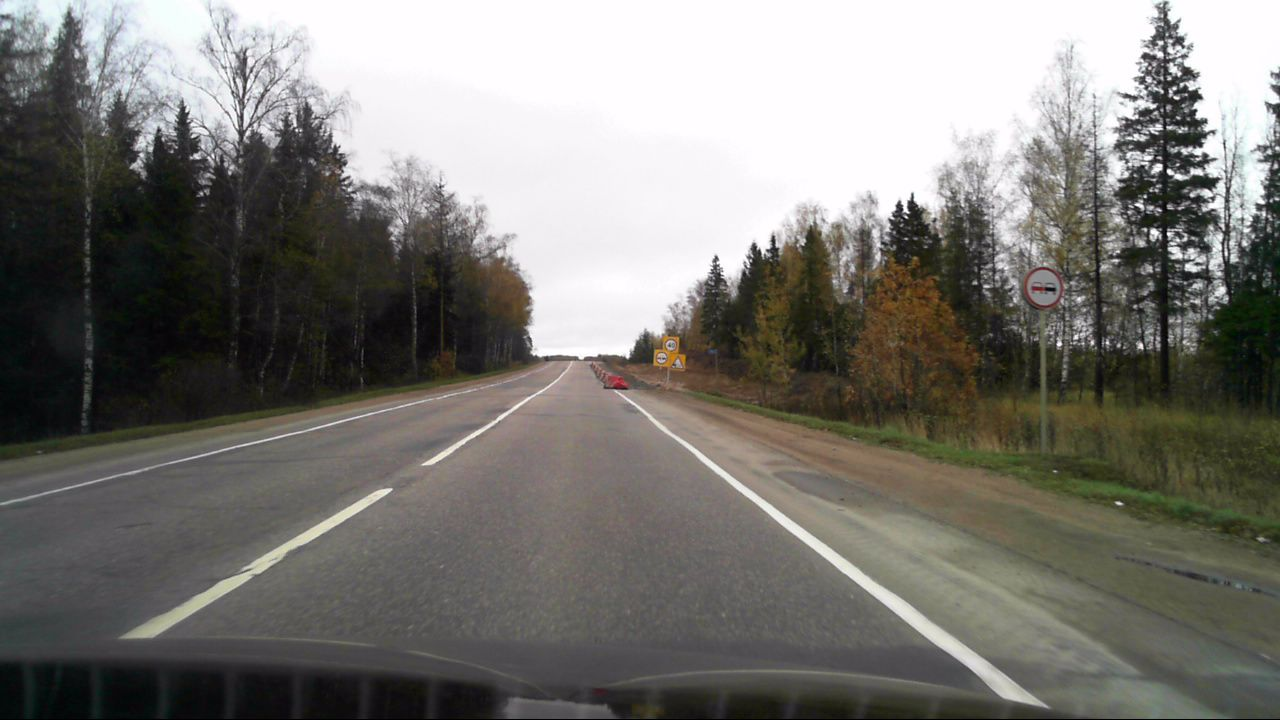speed_warning_40: (662, 336, 679, 353)
